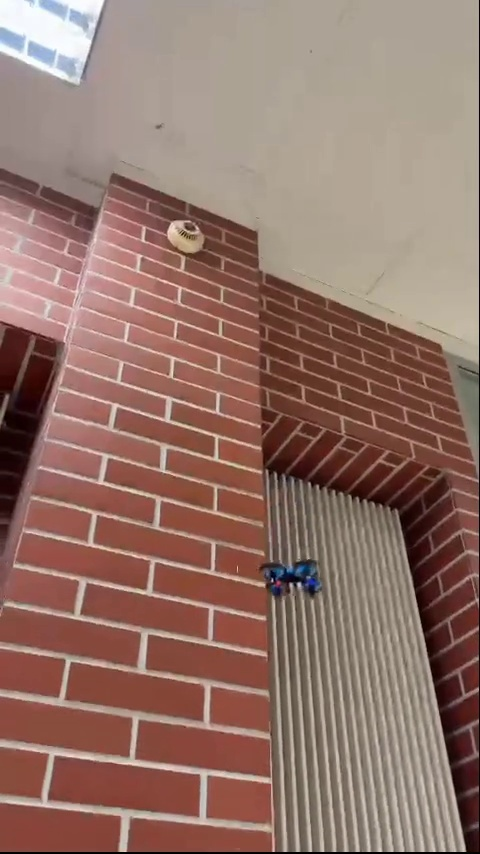drone: (262, 559, 325, 600)
